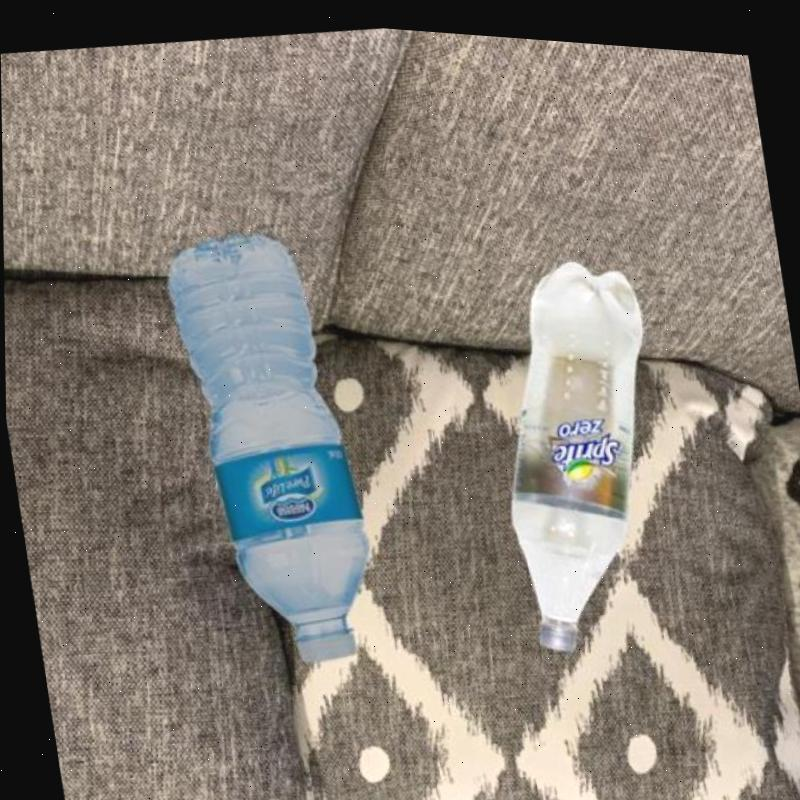botella: (154, 214, 380, 670), (466, 231, 694, 655)
